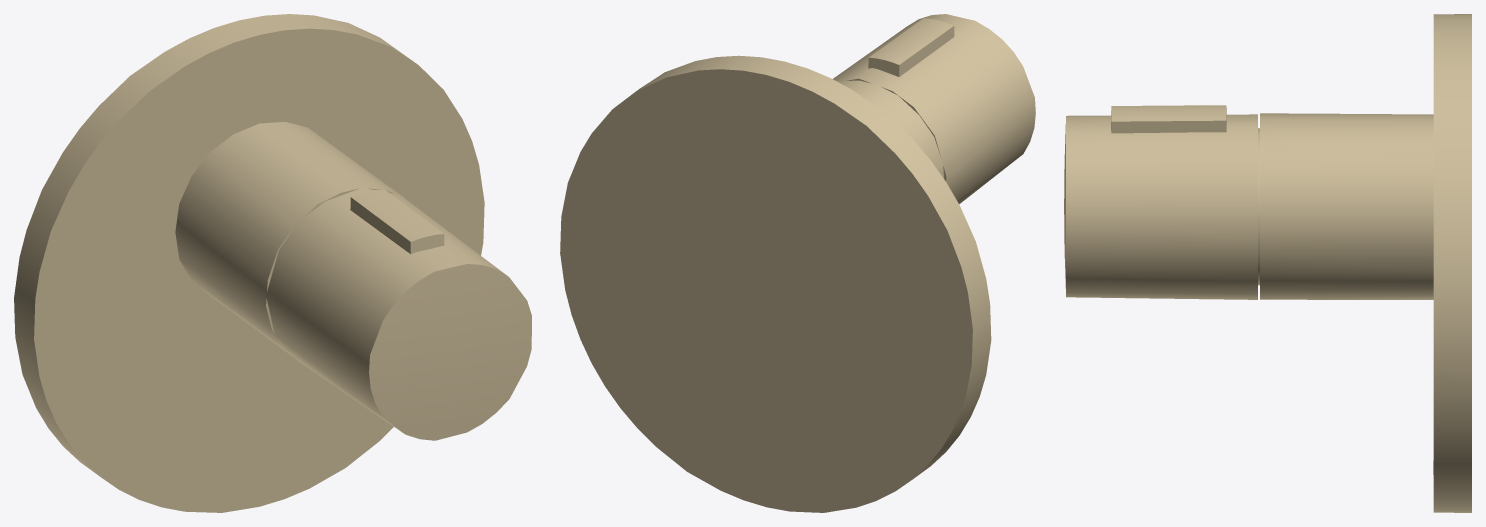
The picture shows the model from 3 angles, left to right: view 1: azimuth 30°, elevation 25°; view 2: azimuth 150°, elevation 25°; view 3: azimuth 270°, elevation 25°; orthographic projection. The views are drawn at different scales.
Visible parts, largest first — view 1: L_001d4e90_b90e_49b1_b53e_22cdabfa5212_I1, L_a95225d1_f35d_44fa_8cc6_a15221495ef3_I4, L_a77d6a40_d3d5_4eb9_abf4_3b8f9d93f960_I3, L_50a2261a_14d6_4da1_98d8_0f7c1b97794b_I2; view 2: L_001d4e90_b90e_49b1_b53e_22cdabfa5212_I1, L_a95225d1_f35d_44fa_8cc6_a15221495ef3_I4, L_50a2261a_14d6_4da1_98d8_0f7c1b97794b_I2, L_a77d6a40_d3d5_4eb9_abf4_3b8f9d93f960_I3; view 3: L_a95225d1_f35d_44fa_8cc6_a15221495ef3_I4, L_a77d6a40_d3d5_4eb9_abf4_3b8f9d93f960_I3, L_001d4e90_b90e_49b1_b53e_22cdabfa5212_I1, L_50a2261a_14d6_4da1_98d8_0f7c1b97794b_I2.
Part boxes in pixels (x1=…): L_001d4e90_b90e_49b1_b53e_22cdabfa5212_I1: x1=14, y1=14, x2=484, y2=512; L_a95225d1_f35d_44fa_8cc6_a15221495ef3_I4: x1=266, y1=188, x2=531, y2=440; L_a77d6a40_d3d5_4eb9_abf4_3b8f9d93f960_I3: x1=175, y1=122, x2=407, y2=358; L_50a2261a_14d6_4da1_98d8_0f7c1b97794b_I2: x1=350, y1=189, x2=444, y2=254; L_001d4e90_b90e_49b1_b53e_22cdabfa5212_I1: x1=560, y1=55, x2=991, y2=512; L_a95225d1_f35d_44fa_8cc6_a15221495ef3_I4: x1=833, y1=14, x2=1035, y2=204; L_50a2261a_14d6_4da1_98d8_0f7c1b97794b_I2: x1=868, y1=18, x2=954, y2=76; L_a77d6a40_d3d5_4eb9_abf4_3b8f9d93f960_I3: x1=837, y1=80, x2=943, y2=178; L_a95225d1_f35d_44fa_8cc6_a15221495ef3_I4: x1=1064, y1=114, x2=1257, y2=299; L_a77d6a40_d3d5_4eb9_abf4_3b8f9d93f960_I3: x1=1260, y1=113, x2=1433, y2=299; L_001d4e90_b90e_49b1_b53e_22cdabfa5212_I1: x1=1433, y1=14, x2=1471, y2=512; L_50a2261a_14d6_4da1_98d8_0f7c1b97794b_I2: x1=1111, y1=105, x2=1226, y2=133.
Size of the model in its own units: 0.1234 by 0.1235 by 0.101.
